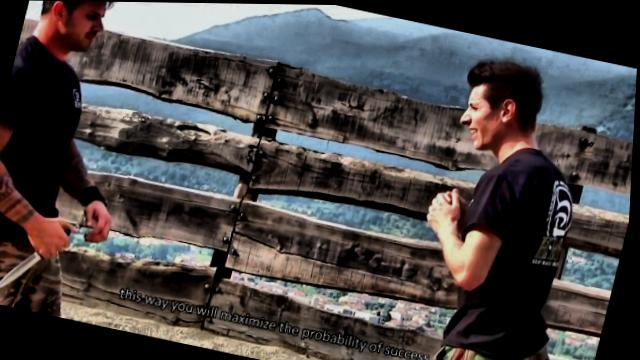knife: (0, 208, 81, 300)
